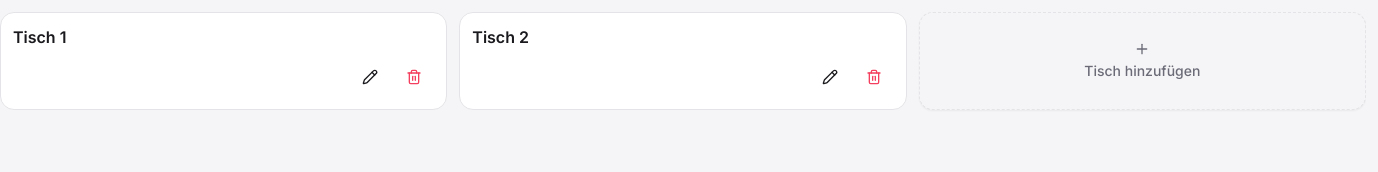
StationManager › says at the field why a name is refused and keeps it open
expect the button "Tisch hinzufügen" is shown: met, box [919,12,1366,110]
Click the button named "Tisch 1 umbenennen": {"x": 370, "y": 77} [350,57,390,97]
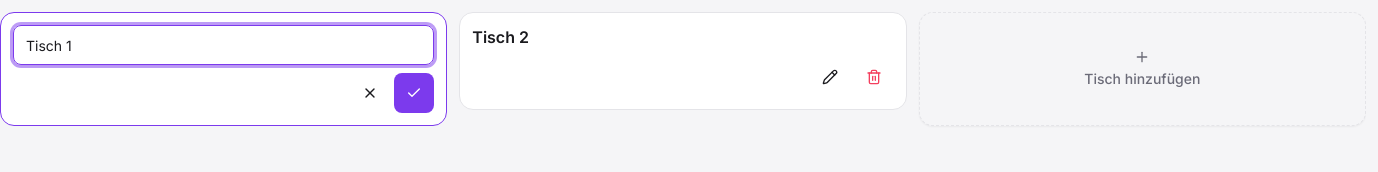
Replace the text in the field with "tisch 2": {"x": 224, "y": 45} [13,25,434,65]
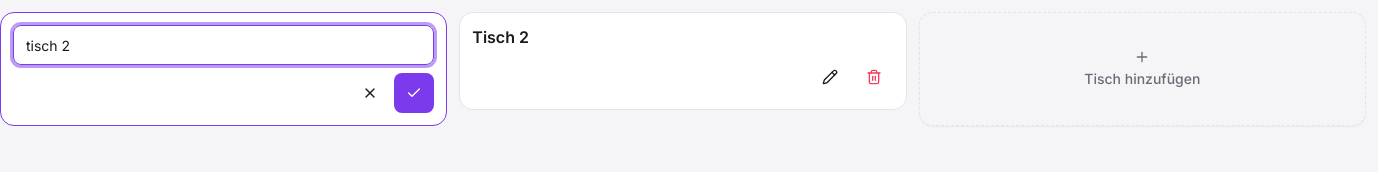
Submit the form, box [0,12,447,126]
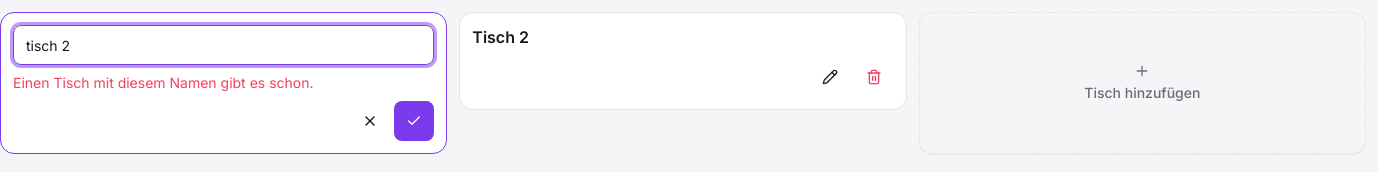
expect the text "Einen Tisch mit diesem Namen gibt es schon." is shown: met, box [13,74,314,91]
